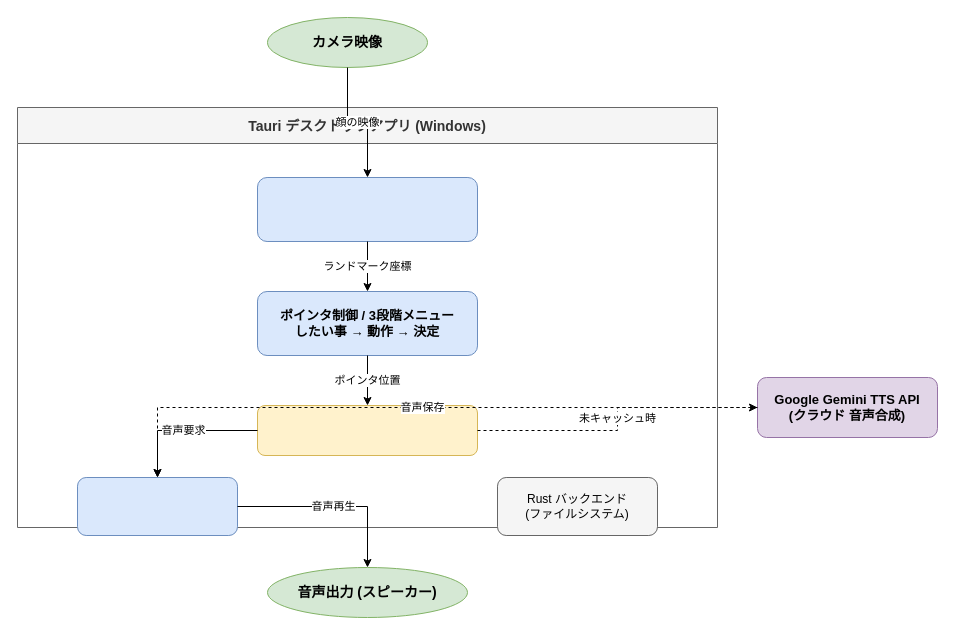
Image size: 955x635. Some labels were removed from this diagram. The shapes that lost their labels are listed below. From the top down, each one's centre as x and y in pixels, then its label:
point (367, 209): MediaPipe FaceLandmarker 顔トラッキング
point (367, 430): 確定ゾーン 滞留判定
point (157, 506): IndexedDB 音声キャッシュ
